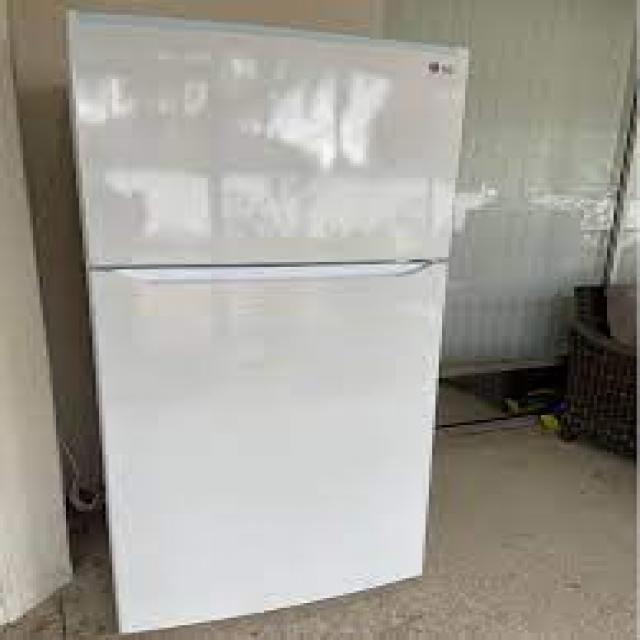refrigerator: (65, 10, 467, 626)
